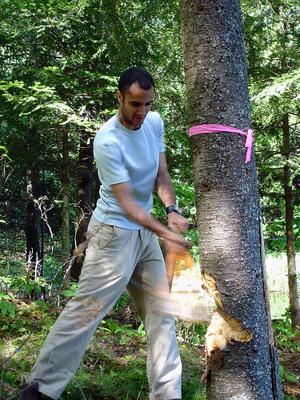person: (18, 66, 194, 400)
